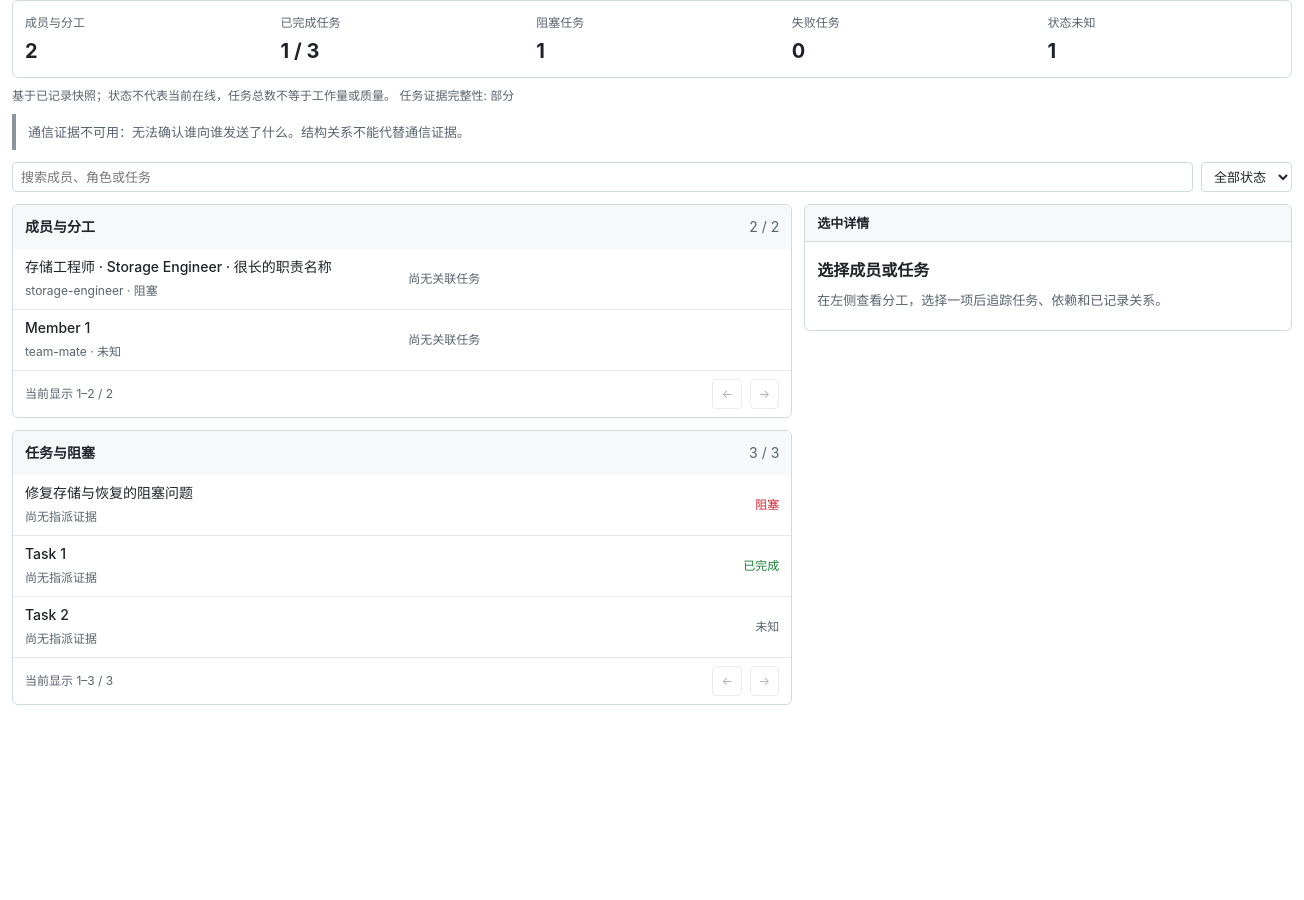
Test: Team workbench observed responsibility and evidence workflow › does not invent ownership from role labels, lifecycle or inactive assignments
Click the button with class "tw-task" showing "修复存储与恢复的阻塞问题 尚无指派证据 阻塞" at coordinates (109, 492), box left=13, top=475, right=791, bottom=536
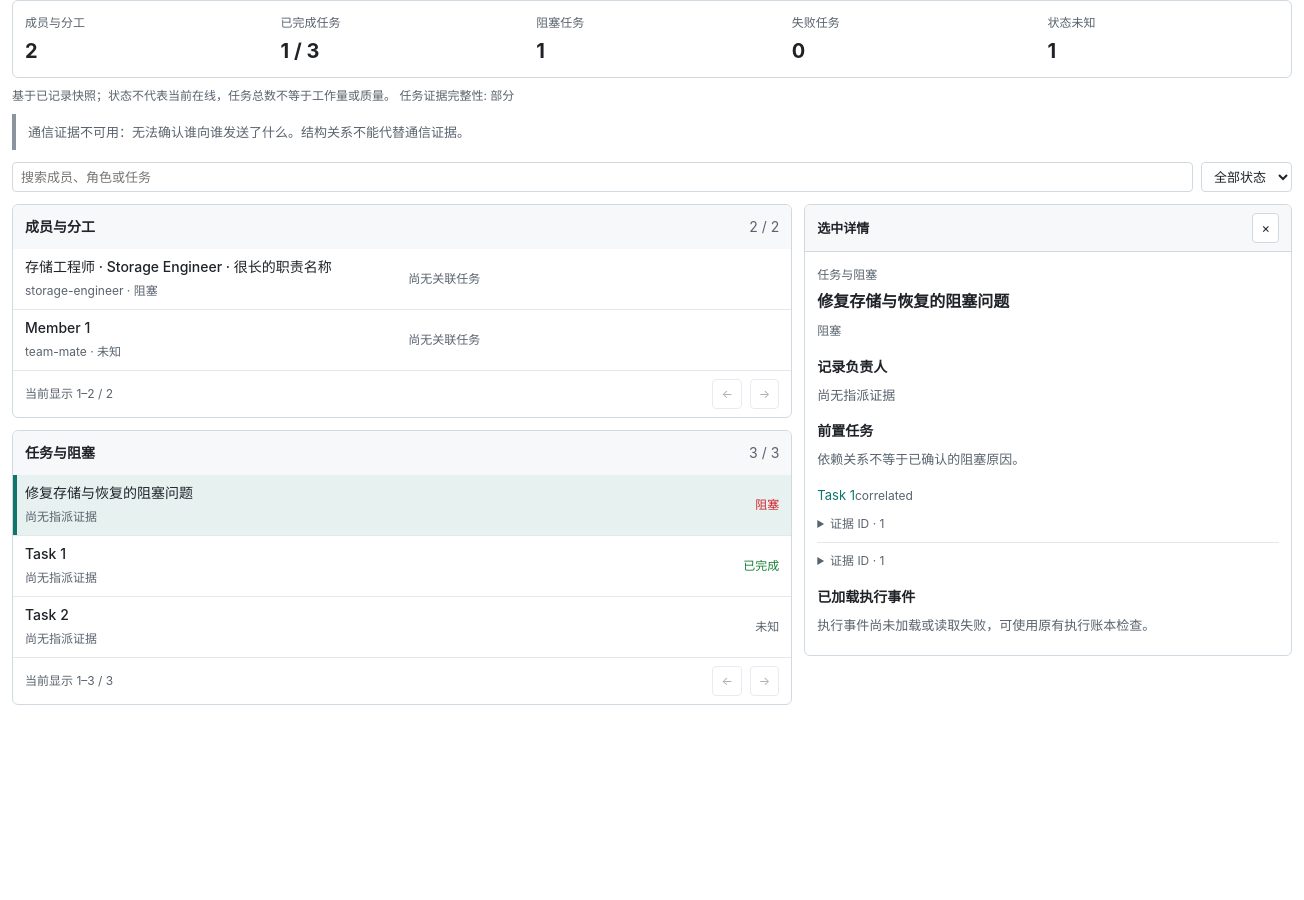
Expected: the element with class "tw-detail" shows "尚无指派证据", left=817, top=387, right=895, bottom=403
